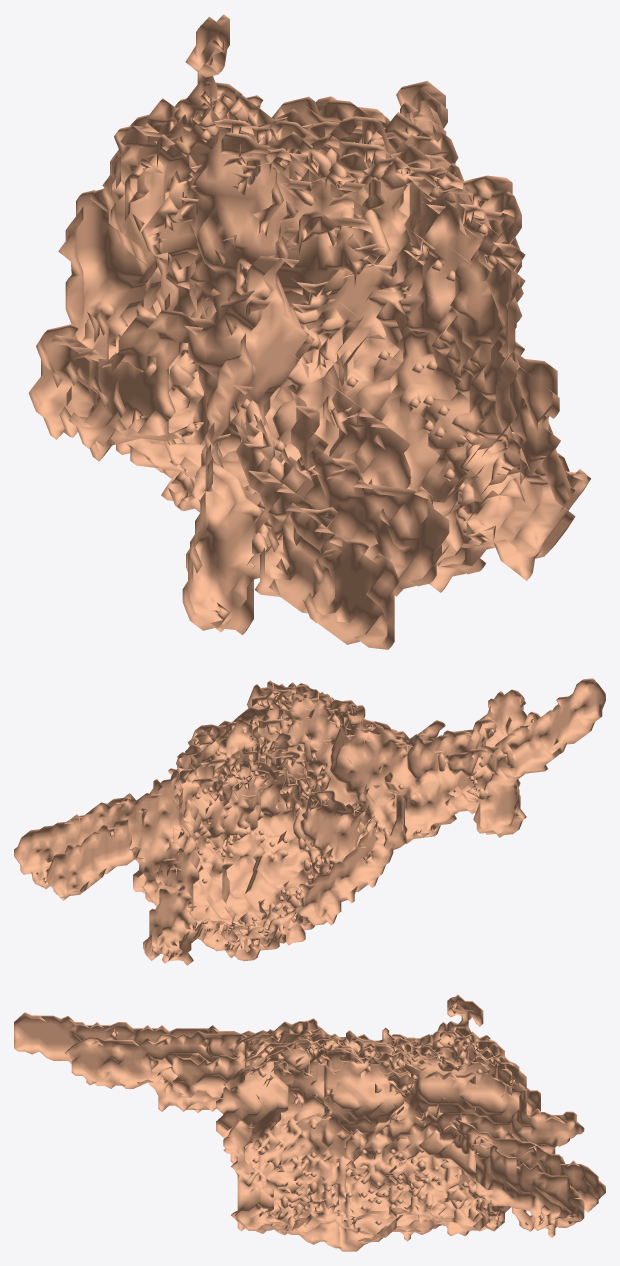
File: osteocyte_47.glb
3 views of the same model, one above another, from view 1: azimuth 30°, elevation 25°; view 2: azimuth 150°, elevation 25°; view 3: azimuth 270°, elevation 25° (orthographic). The views are drawn at different scales.
Parts seen in each view (by area): view 1: osteocyte_47; view 2: osteocyte_47; view 3: osteocyte_47.
Part boxes in pixels (left/top/right/bottom): osteocyte_47: left=28, top=14, right=590, bottom=649; osteocyte_47: left=14, top=678, right=605, bottom=965; osteocyte_47: left=14, top=994, right=605, bottom=1251.
Size of the model in its own units: 24.07 by 17.82 by 39.48.
